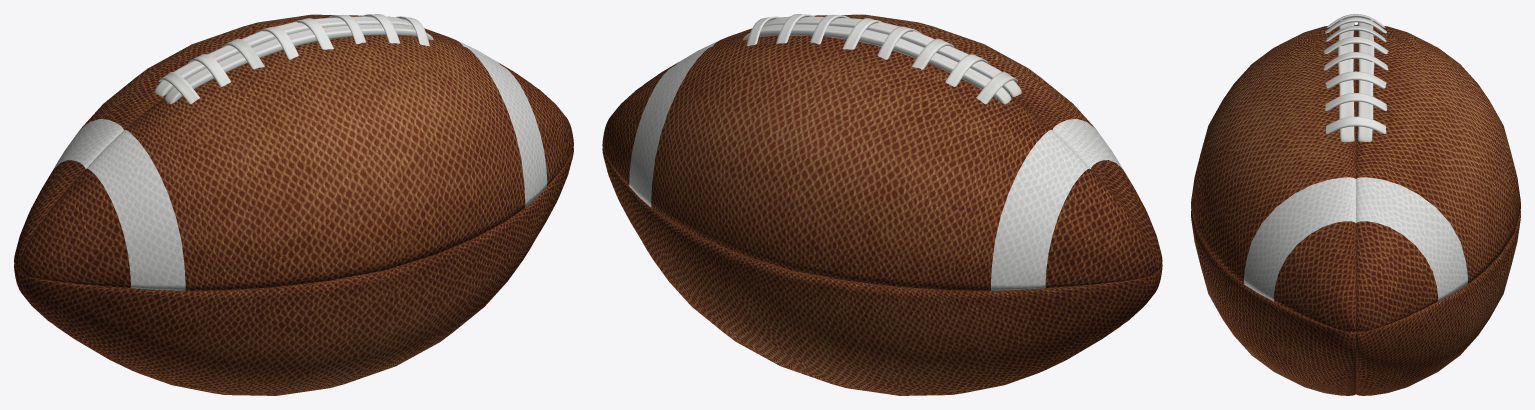
Rendered from football.fbx.
3 views of the same model, side by side, from view 1: azimuth 30°, elevation 25°; view 2: azimuth 150°, elevation 25°; view 3: azimuth 270°, elevation 25° (orthographic). The views are drawn at different scales.
Parts seen in each view (by area): view 1: football, lace1, lace2; view 2: football, lace1, lace2; view 3: football, lace2, lace1.
Boxes of the visible parts, x1,y1,x2,y2 form: football: [14, 14, 573, 395]; lace1: [154, 16, 433, 103]; lace2: [158, 14, 429, 104]; football: [602, 14, 1162, 395]; lace1: [742, 16, 1021, 104]; lace2: [746, 14, 1017, 104]; football: [1191, 24, 1520, 395]; lace2: [1323, 14, 1388, 133]; lace1: [1338, 19, 1374, 142].
Size of the model in its own units: 9.38 by 5.67 by 5.34.
